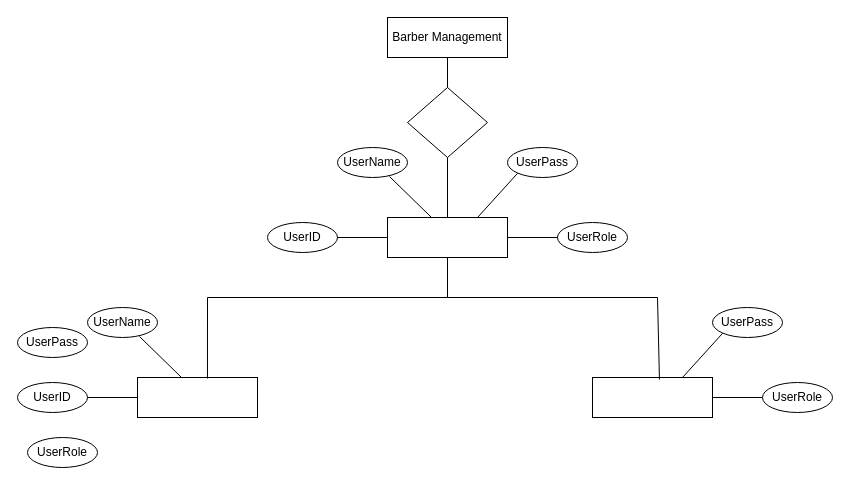
Image size: 850x485. Some labels were removed from this diagram. The shapes that lost their labels are listed below. From the top down, each one's centre as x and y in pixels, then its label:
[447,122]: Has
[447,237]: User
[197,397]: Manager
[652,397]: Staff
